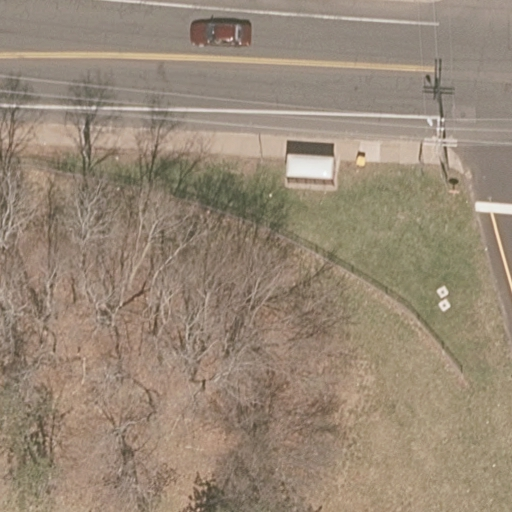DT: (423, 112, 458, 188)
